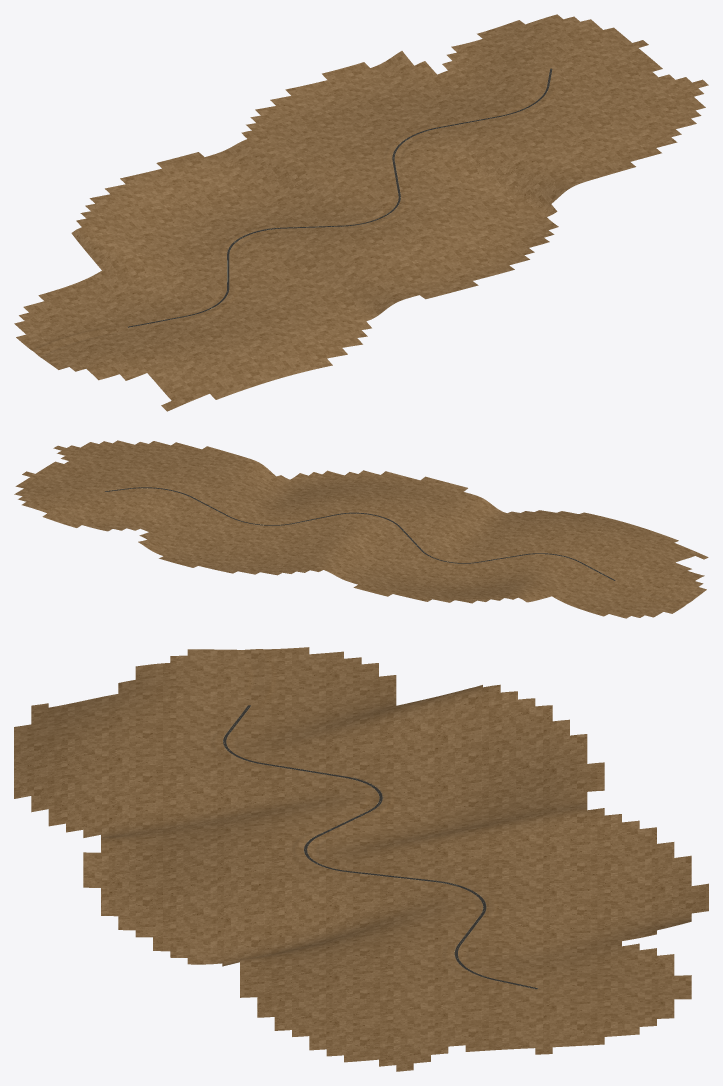
The picture shows the model from 3 angles, top to bottom: view 1: azimuth 30°, elevation 25°; view 2: azimuth 150°, elevation 25°; view 3: azimuth 270°, elevation 25°; orthographic projection. The views are drawn at different scales.
Visible parts, largest first — view 1: S05_TERRAIN_LOD1_WEB_EXPORT, S05_ROAD_ASPHALT_LOD1_WEB_EXPORT; view 2: S05_TERRAIN_LOD1_WEB_EXPORT, S05_ROAD_ASPHALT_LOD1_WEB_EXPORT; view 3: S05_TERRAIN_LOD1_WEB_EXPORT, S05_ROAD_ASPHALT_LOD1_WEB_EXPORT.
Part boxes in pixels (box(x1,y1,x2,y2)): S05_TERRAIN_LOD1_WEB_EXPORT: box(14, 14, 708, 411); S05_ROAD_ASPHALT_LOD1_WEB_EXPORT: box(128, 68, 552, 327); S05_TERRAIN_LOD1_WEB_EXPORT: box(14, 440, 708, 618); S05_ROAD_ASPHALT_LOD1_WEB_EXPORT: box(105, 487, 615, 580); S05_TERRAIN_LOD1_WEB_EXPORT: box(14, 647, 708, 1071); S05_ROAD_ASPHALT_LOD1_WEB_EXPORT: box(223, 705, 537, 989).
Bounding box in the file's own units: 2720 × 288 × 1600.
Materials: 6 (6 with a texture image).
